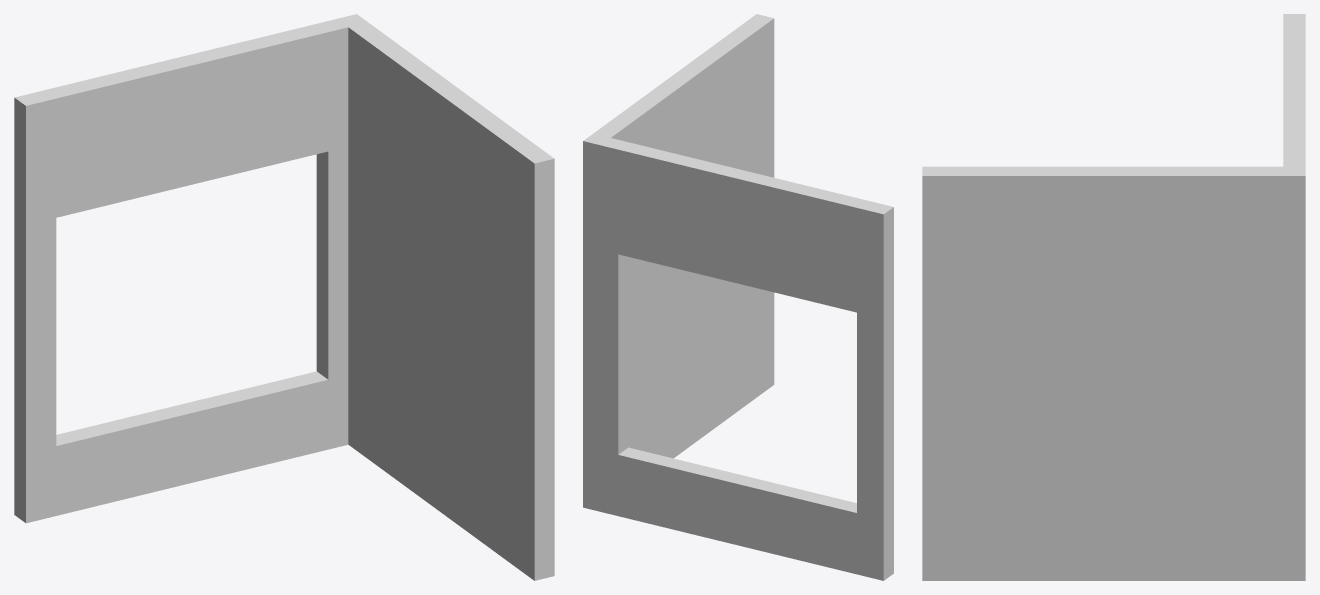
Rendered from Wall1_C1_13.fbx.
3 views of the same model, side by side, from view 1: azimuth 30°, elevation 25°; view 2: azimuth 150°, elevation 25°; view 3: azimuth 270°, elevation 25° (orthographic). The views are drawn at different scales.
Parts seen in each view (by area): view 1: Wall1_C1_13; view 2: Wall1_C1_13; view 3: Wall1_C1_13.
Boxes of the visible parts, bbox=[...] form: Wall1_C1_13: bbox=[14, 14, 554, 580]; Wall1_C1_13: bbox=[583, 14, 893, 580]; Wall1_C1_13: bbox=[922, 14, 1305, 580].
Size of the model in its own units: 258 by 300 by 258.
